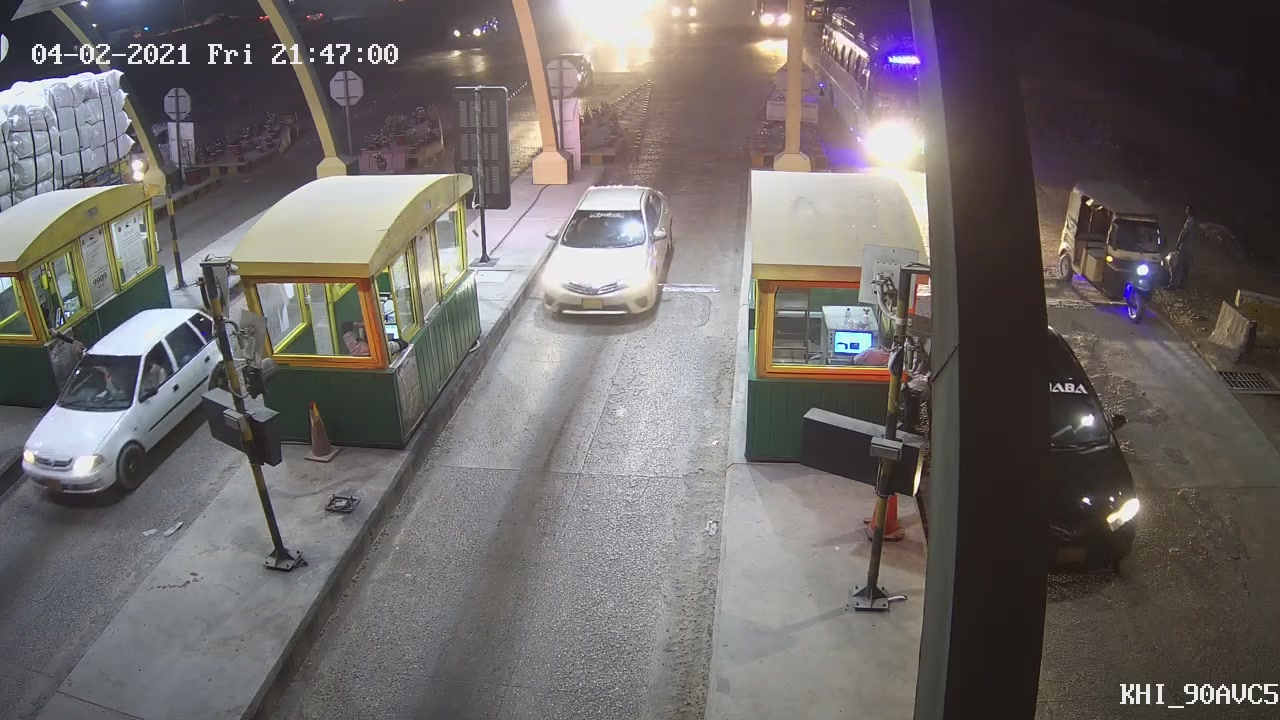F1: (531, 179, 676, 325)
